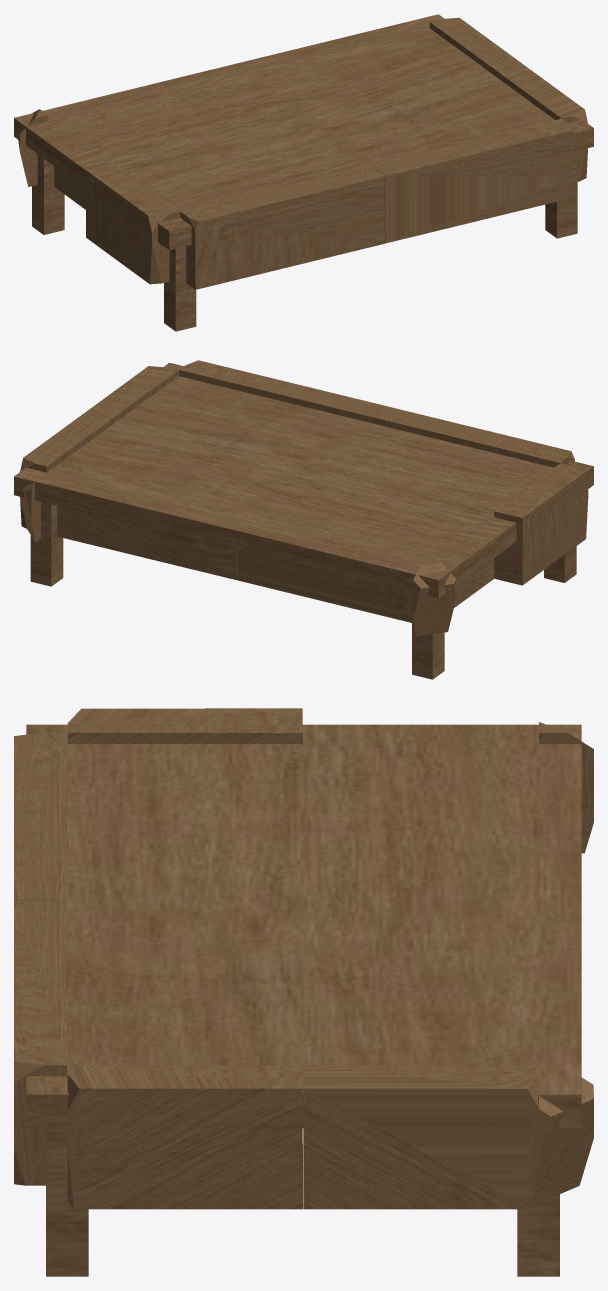
The model's file is table_breakable.glb.
3 views of the same model, one above another, from view 1: azimuth 30°, elevation 25°; view 2: azimuth 150°, elevation 25°; view 3: azimuth 270°, elevation 25° (orthographic). The views are drawn at different scales.
Visible parts, largest first — view 1: Cube.200_cell.034, Cube.200_cell.006, Cube.200_cell.025, Cube.200_cell.026, original, Cube.200_cell.024, Cube.200_cell.032, Cube.200_cell.016, Cube.200_cell.015, Cube.200_cell.019, Cube.200_cell.030, Cube.200_cell.042 (+6 smaller); view 2: Cube.200_cell.034, Cube.200_cell.016, original, Cube.200_cell.019, Cube.200_cell.032, Cube.200_cell.020, Cube.200_cell.029, Cube.200_cell.025, Cube.200_cell.024, Cube.200_cell.038, Cube.200_cell.030, Cube.200_cell.006 (+3 smaller); view 3: Cube.200_cell.016, Cube.200_cell.034, Cube.200_cell.006, Cube.200_cell.019, Cube.200_cell.030, original, Cube.200_cell.024, Cube.200_cell.025, Cube.200_cell.032, Cube.200_cell.026, Cube.200_cell.038, Cube.200_cell.012 (+1 smaller).
Boxes of the visible parts, x1,y1,x2,y2 form: Cube.200_cell.034: (14, 16, 591, 223); Cube.200_cell.006: (42, 14, 523, 249); Cube.200_cell.025: (47, 15, 470, 289); Cube.200_cell.026: (48, 21, 593, 248); original: (14, 15, 488, 331); Cube.200_cell.024: (371, 118, 576, 243); Cube.200_cell.032: (86, 163, 196, 329); Cube.200_cell.016: (14, 14, 593, 250); Cube.200_cell.015: (121, 123, 361, 209); Cube.200_cell.019: (28, 17, 521, 225); Cube.200_cell.030: (495, 64, 587, 181); Cube.200_cell.042: (545, 151, 577, 238); Cube.200_cell.034: (14, 363, 577, 596); Cube.200_cell.016: (24, 363, 501, 580); original: (14, 363, 592, 676); Cube.200_cell.019: (14, 407, 438, 598); Cube.200_cell.032: (494, 463, 588, 585); Cube.200_cell.020: (238, 498, 493, 622); Cube.200_cell.029: (57, 506, 237, 580); Cube.200_cell.025: (175, 365, 574, 573); Cube.200_cell.024: (179, 360, 383, 422); Cube.200_cell.038: (412, 559, 456, 679); Cube.200_cell.030: (86, 366, 178, 423); Cube.200_cell.006: (137, 363, 512, 594); Cube.200_cell.016: (26, 724, 581, 1125); Cube.200_cell.034: (27, 724, 593, 1276); Cube.200_cell.006: (26, 724, 581, 1127); Cube.200_cell.019: (27, 781, 581, 1209); Cube.200_cell.030: (57, 1065, 302, 1276); original: (26, 724, 581, 1276); Cube.200_cell.024: (14, 899, 67, 1185); Cube.200_cell.025: (14, 733, 580, 1127); Cube.200_cell.032: (67, 708, 302, 743); Cube.200_cell.026: (26, 747, 581, 1128); Cube.200_cell.038: (539, 722, 593, 853); Cube.200_cell.012: (46, 1195, 66, 1276).
Size of the model in its own units: 3.68 by 0.9127 by 2.37.
Materials: 1 (1 with a texture image).
